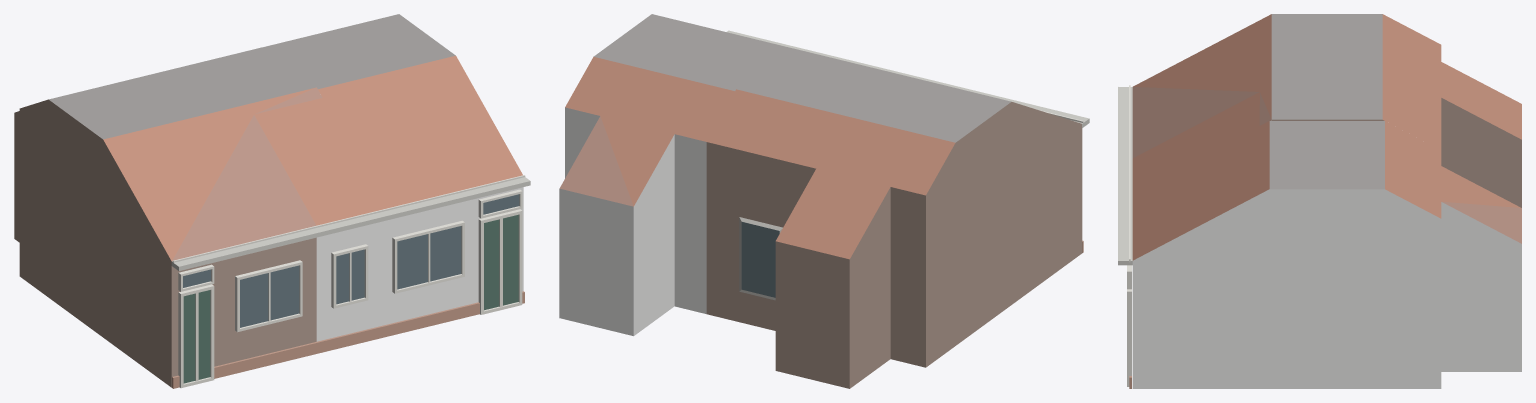
File: chunk-face-vogel-3-15-r1.glb
3 views of the same model, side by side, from view 1: azimuth 30°, elevation 25°; view 2: azimuth 150°, elevation 25°; view 3: azimuth 270°, elevation 25° (orthographic). The views are drawn at different scales.
Parts seen in each view (by area): view 1: face-vogel-3-15-r1; view 2: face-vogel-3-15-r1; view 3: face-vogel-3-15-r1.
Part boxes in pixels (x1=…): face-vogel-3-15-r1: x1=14, y1=14, x2=530, y2=388; face-vogel-3-15-r1: x1=559, y1=14, x2=1089, y2=388; face-vogel-3-15-r1: x1=1118, y1=14, x2=1521, y2=388.
Size of the model in its own units: 10.01 by 5.39 by 9.81.
